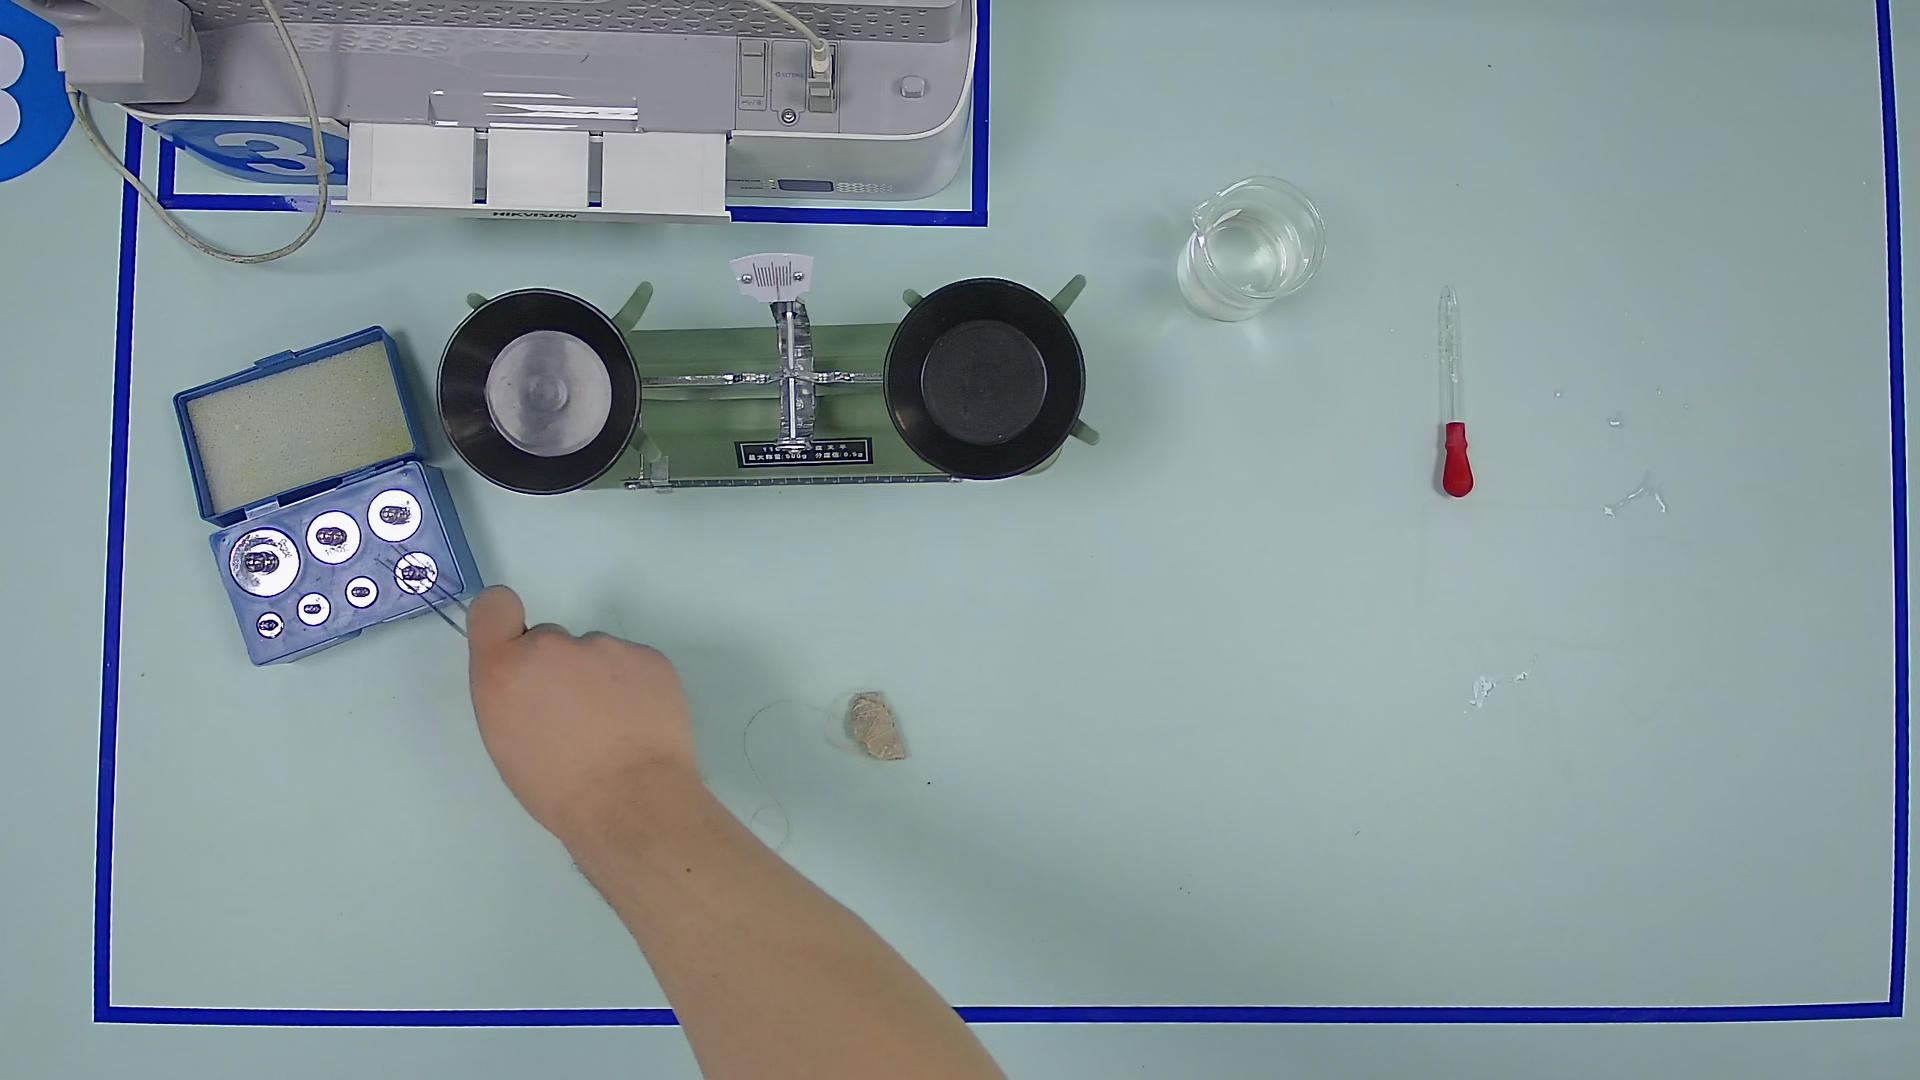bei: (1168, 167, 1332, 327)
diguan: (1418, 274, 1491, 504)
diguantou: (1431, 415, 1486, 506)
fama: (228, 526, 302, 599), (365, 487, 425, 543), (305, 509, 363, 564), (392, 551, 440, 597), (295, 591, 332, 628), (343, 576, 380, 611), (255, 611, 285, 640)
gan: (615, 447, 957, 516)
hand: (440, 579, 731, 843)
he: (202, 458, 495, 680)
niezi: (378, 547, 481, 642)
pointer: (733, 248, 812, 299)
shi: (835, 684, 923, 773)
tuo: (864, 255, 1108, 508), (422, 273, 659, 514)
you: (644, 452, 678, 501)
